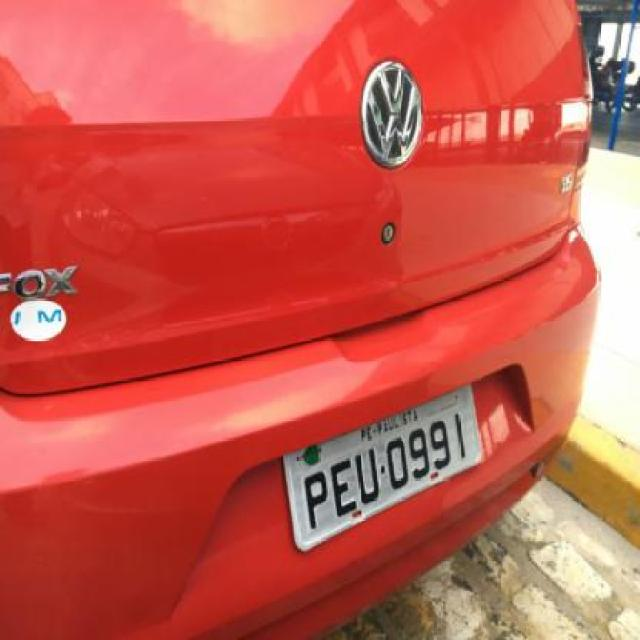old_plate: (276, 380, 503, 557)
